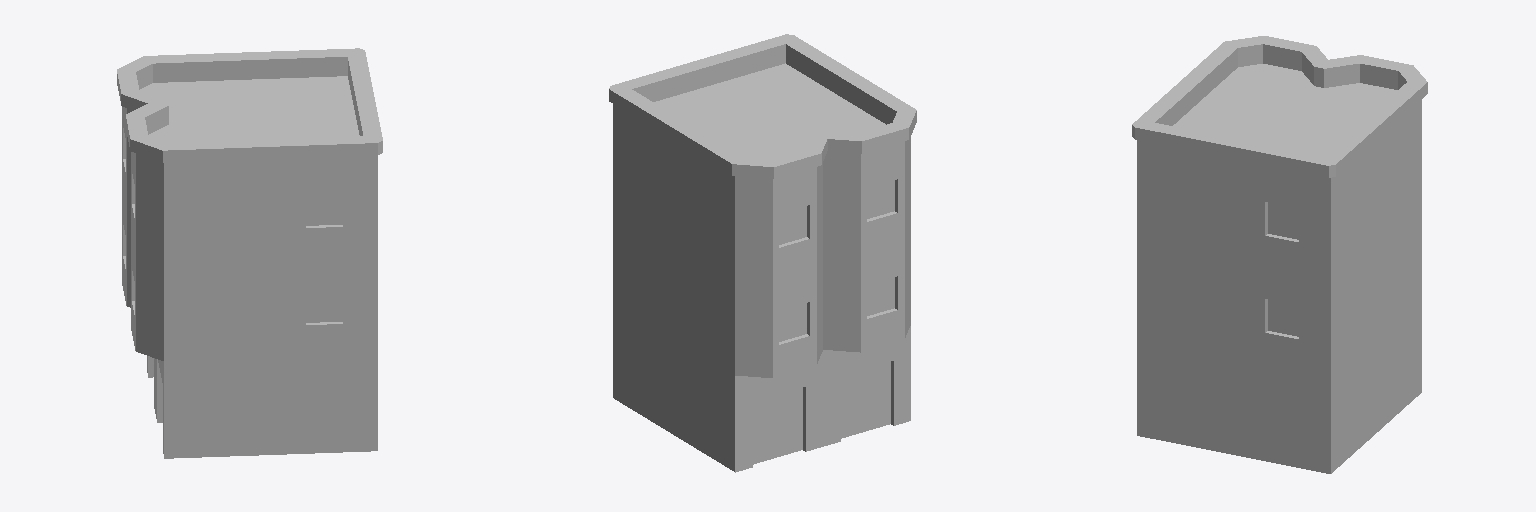
Rendered from variant_9.obj.
3 renders of one model, left to right at view 1: azimuth 30°, elevation 25°; view 2: azimuth 150°, elevation 25°; view 3: azimuth 270°, elevation 25°, orthographic.
Visible parts, largest first — view 1: Building; view 2: Building; view 3: Building.
Part boxes in pixels (x1,y1,x2,y2): Building: (117,48,382,458); Building: (609,34,916,472); Building: (1132,36,1427,473).
Bounding box in the file's own units: 1.15 × 1.28 × 1.1.